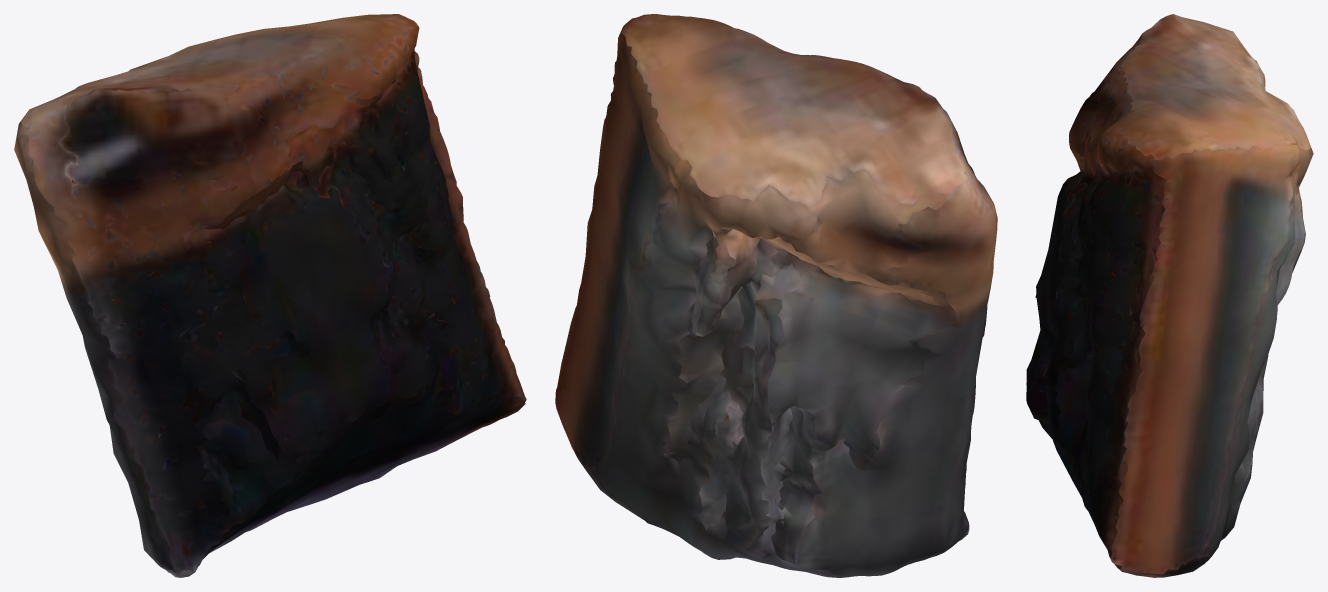
The model's file is 10_desk.glb.
3 renders of one model, left to right at view 1: azimuth 30°, elevation 25°; view 2: azimuth 150°, elevation 25°; view 3: azimuth 270°, elevation 25°, orthographic. The views are drawn at different scales.
Visible parts, largest first — view 1: 10_desk; view 2: 10_desk; view 3: 10_desk.
Part boxes in pixels (x1,y1,x2,y2): 10_desk: [14, 14, 526, 577]; 10_desk: [555, 14, 997, 577]; 10_desk: [1026, 14, 1313, 577].
Bounding box in the file's own units: 0.3451 × 0.3499 × 0.1997.
Materials: 1 (1 with a texture image).
